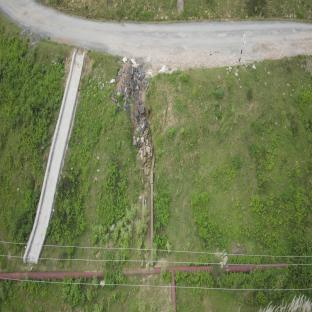slope_drain: (21, 49, 86, 265)
vegetation: (4, 50, 61, 172)
